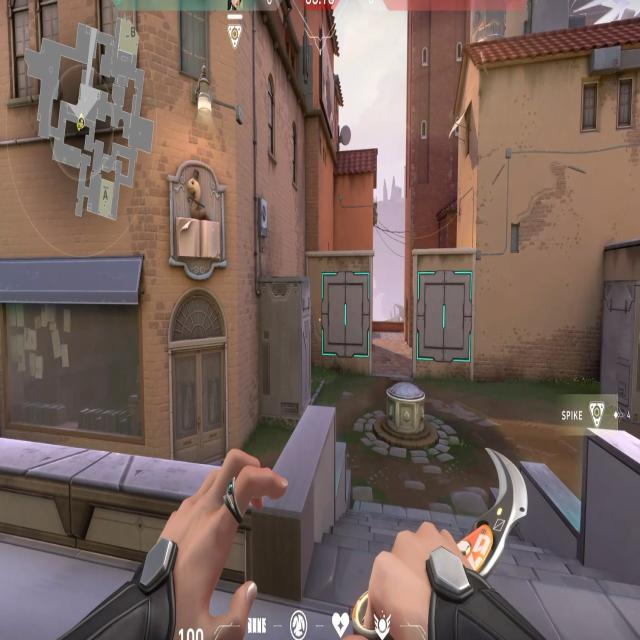Mid_Wall: (306, 243, 375, 379), (412, 246, 478, 380)
